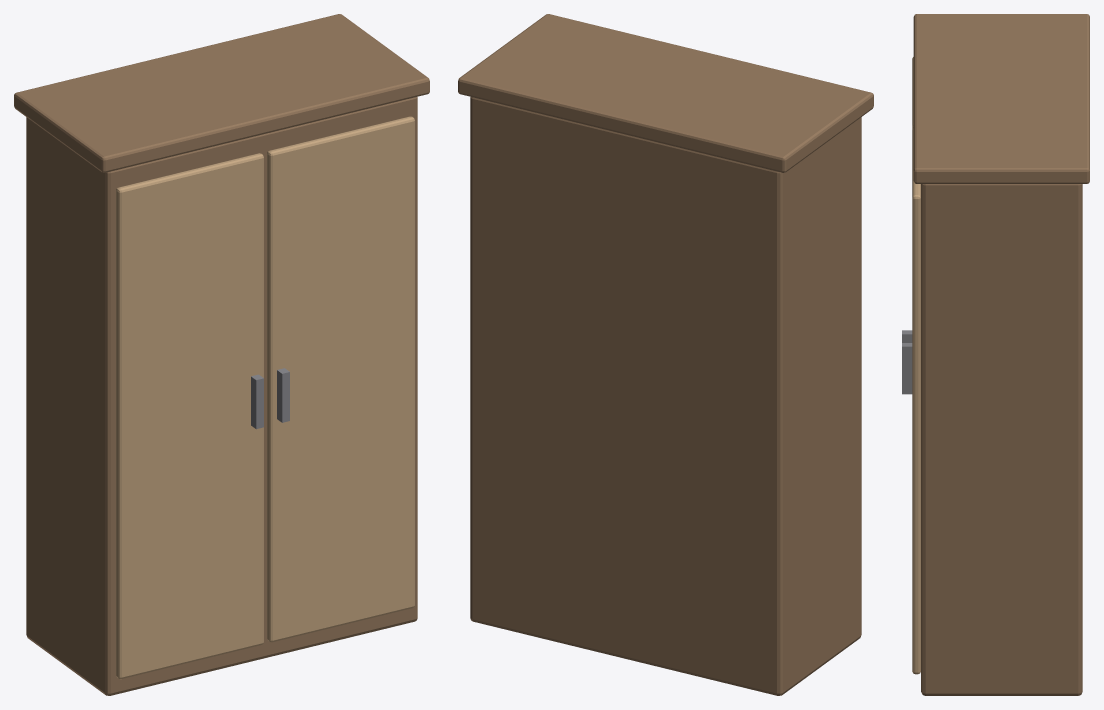
File: fur_wardrobe.glb
The picture shows the model from 3 angles, left to right: view 1: azimuth 30°, elevation 25°; view 2: azimuth 150°, elevation 25°; view 3: azimuth 270°, elevation 25°; orthographic projection. The views are drawn at different scales.
Parts seen in each view (by area): view 1: fur_wardrobe; view 2: fur_wardrobe; view 3: fur_wardrobe.
Part boxes in pixels (x1,y1,x2,y2): fur_wardrobe: (14, 14, 429, 695); fur_wardrobe: (458, 14, 873, 695); fur_wardrobe: (902, 14, 1089, 695).
Bounding box in the file's own units: 1.26 × 2 × 0.64.
